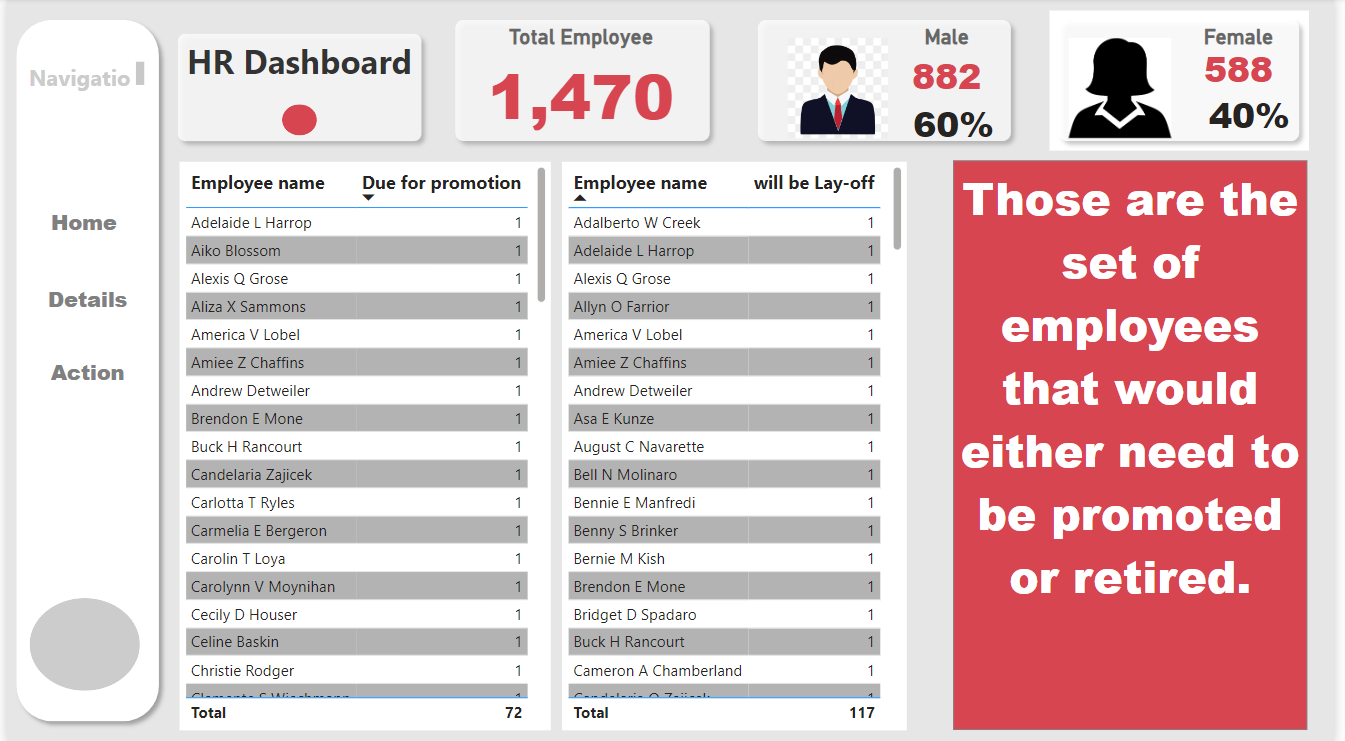

The dashboard page shown, as its layout file describes it:
{"tool":"powerbi","page":{"name":"Action","canvas":[1280,720],"ordinal":2},"visuals":[{"type":"shape","box":[0,12.1,155.6,694.9],"z":0},{"type":"shape","box":[155.6,25.3,253.4,121.9],"z":1000},{"type":"shape","box":[423.8,12.5,263.8,135],"z":2000},{"type":"shape","box":[715,12.5,262.5,135],"z":3000},{"type":"shape","box":[1006.2,12.5,250,135],"z":4000},{"type":"textbox","box":[165.3,33.8,234,106.2],"z":5000},{"type":"shape","box":[265.4,102.5,33.8,30.2],"z":6000},{"type":"card","title":"Total Employee","fields":{"Values":["Sum(dataset.Total Employees)"]},"box":[440,25,227.5,107.5],"z":7000},{"type":"card","title":"Male","fields":{"Values":["All Measures.Male"]},"box":[846.2,25,122.5,77.5],"z":8000},{"type":"card","title":" Female","fields":{"Values":["All Measures.Female"]},"box":[1131.2,25,113.8,62.5],"z":9000},{"type":"card","title":"Male","fields":{"Values":["All Measures.% Male"]},"box":[857.5,102.5,111.2,37.5],"z":10000},{"type":"card","title":" Female","fields":{"Values":["All Measures.% Female"]},"box":[1153.8,86.2,91.2,53.8],"z":11000},{"type":"image","box":[736.2,33.8,132.5,106.2],"z":12000},{"type":"image","box":[1006.2,33.8,136.2,106.2],"z":13000},{"type":"tableEx","fields":{"Values":["emp.Employee name","All Measures.Due for promotion"]},"box":[166.4,157.9,358.4,549],"z":14000},{"type":"tableEx","fields":{"Values":["emp.Employee name","All Measures.will be Lay-off"]},"box":[536.2,157.9,332.8,549],"z":15000},{"type":"textbox","box":[913.3,157.3,341.9,549.7],"z":16000},{"type":"shape","box":[21.3,578.8,106.7,89.6],"z":17000},{"type":"textbox","box":[11.4,56.9,126.6,45.5],"z":18000},{"type":"actionButton","box":[11.4,194.8,126.6,39.8],"z":19000},{"type":"actionButton","box":[14.2,270.2,126.6,39.8],"z":20000},{"type":"actionButton","box":[14.2,339.9,126.6,39.8],"z":21000}]}

Visuals, with their boxes on the page's 1280x720 design canvas (x1, y1, x2, y2). These are canvas units, not pixel positions in the 1345x741 screenshot, which may show the page scaled, cropped or inside an application window:
shape: detection(0, 12, 156, 707)
shape: detection(156, 25, 409, 147)
shape: detection(424, 12, 688, 148)
shape: detection(715, 12, 978, 148)
shape: detection(1006, 12, 1256, 148)
textbox: detection(165, 34, 399, 140)
shape: detection(265, 102, 299, 133)
"Total Employee" card: detection(440, 25, 668, 132)
"Male" card: detection(846, 25, 969, 102)
" Female" card: detection(1131, 25, 1245, 88)
"Male" card: detection(858, 102, 969, 140)
" Female" card: detection(1154, 86, 1245, 140)
image: detection(736, 34, 869, 140)
image: detection(1006, 34, 1142, 140)
tableEx - emp.Employee name x All Measures.Due for promotion: detection(166, 158, 525, 707)
tableEx - emp.Employee name x All Measures.will be Lay-off: detection(536, 158, 869, 707)
textbox: detection(913, 157, 1255, 707)
shape: detection(21, 579, 128, 668)
textbox: detection(11, 57, 138, 102)
actionButton: detection(11, 195, 138, 235)
actionButton: detection(14, 270, 141, 310)
actionButton: detection(14, 340, 141, 380)
